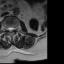CCS_normal: (10, 25, 12, 34)
LFS_normal: (14, 25, 16, 32)
LLS_normal: (12, 25, 14, 32)
RFS_normal: (5, 25, 7, 32)
RLS_normal: (7, 25, 10, 32)
